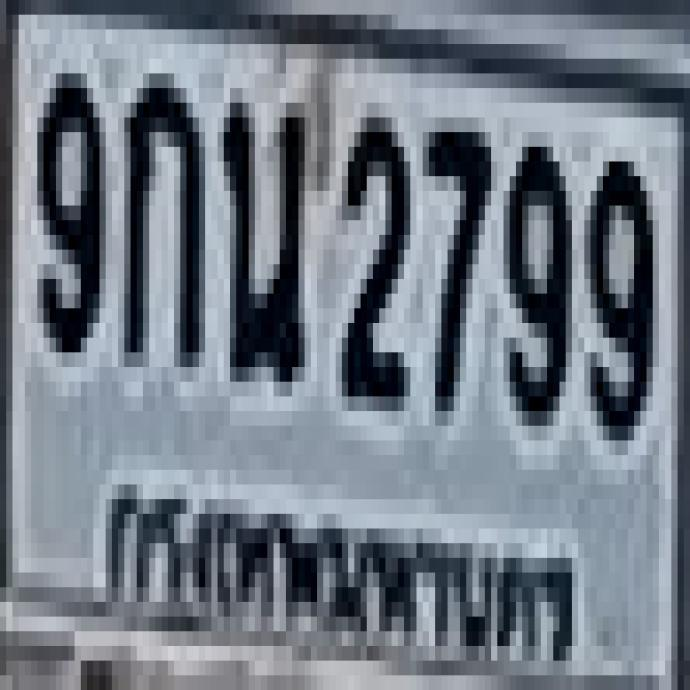2: (337, 105, 404, 397)
7: (421, 111, 486, 399)
9: (582, 149, 648, 426), (33, 60, 98, 340), (500, 129, 564, 411)
A01: (120, 63, 196, 355)
A25: (217, 87, 301, 376)
BKK: (92, 459, 587, 674)
